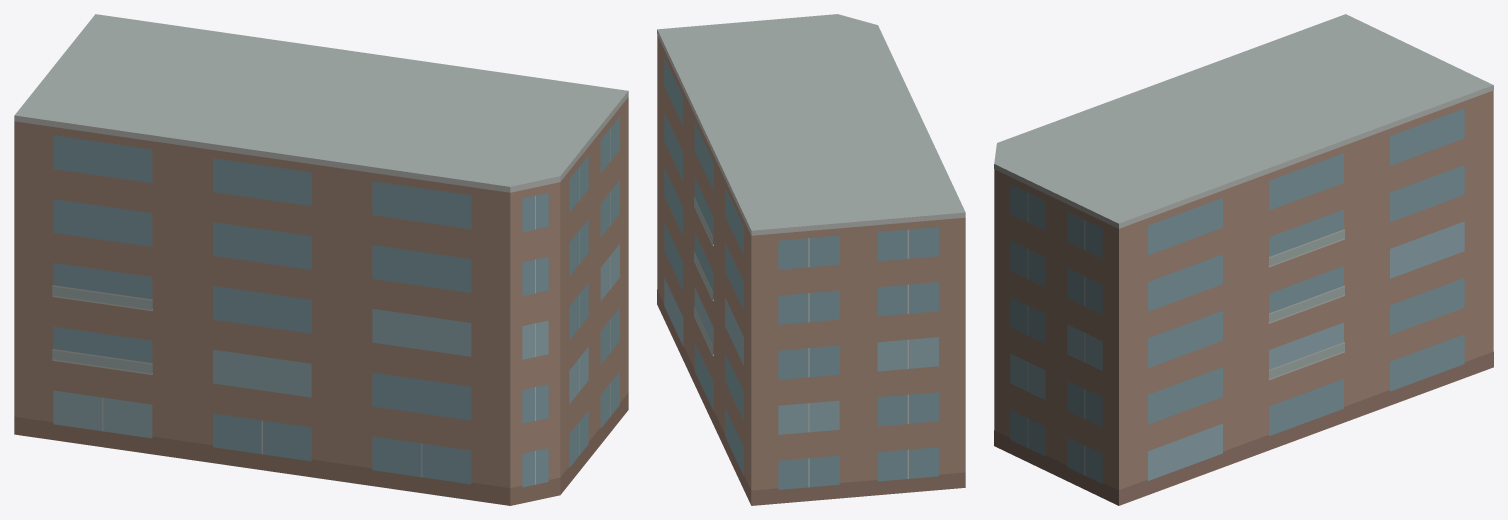
File: survey-upis-32628473.glb
3 renders of one model, left to right at view 1: azimuth 30°, elevation 25°; view 2: azimuth 150°, elevation 25°; view 3: azimuth 270°, elevation 25°, orthographic. The views are drawn at different scales.
Visible parts, largest first — view 1: survey-upis-32628473.tmp; view 2: survey-upis-32628473.tmp; view 3: survey-upis-32628473.tmp.
Part boxes in pixels (x1,y1,x2,y2): survey-upis-32628473.tmp: (14, 14, 628, 505); survey-upis-32628473.tmp: (657, 14, 965, 505); survey-upis-32628473.tmp: (994, 14, 1493, 505).
Size of the model in its own units: 21.21 by 13.3 by 21.35.
